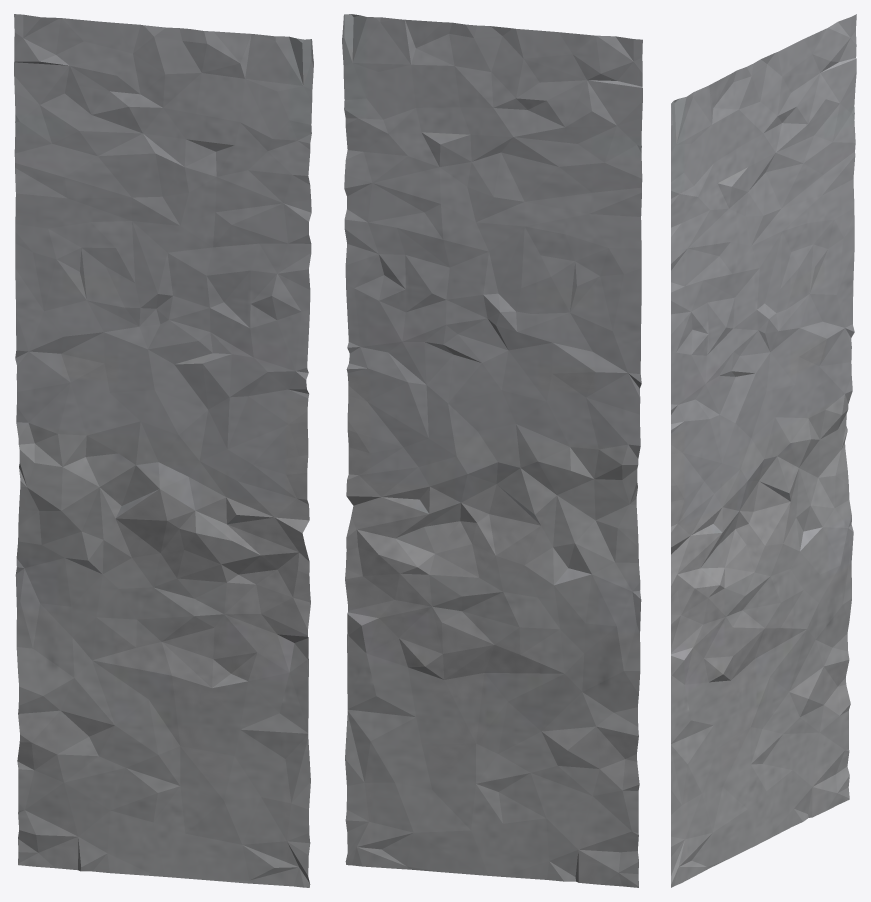
3 views of the same model, side by side, from view 1: azimuth 30°, elevation 25°; view 2: azimuth 210°, elevation 25°; view 3: azimuth 270°, elevation 25° (orthographic). The views are drawn at different scales.
Bounding box in the file's own units: 0.2062 × 0.8374 × 0.1794.
Materials: 1 (1 with a texture image).
